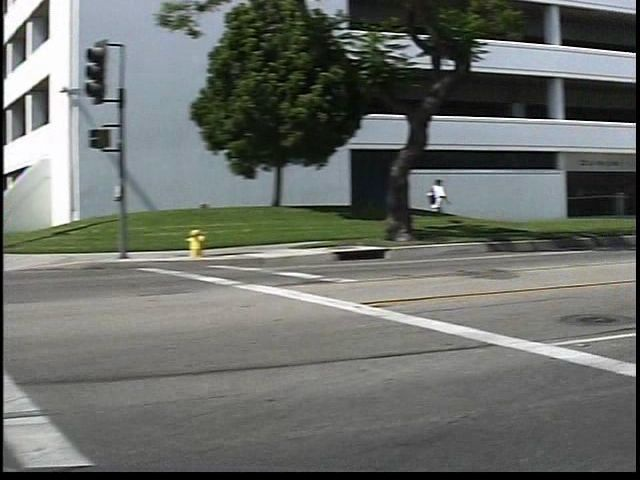person: (443, 174, 467, 235)
